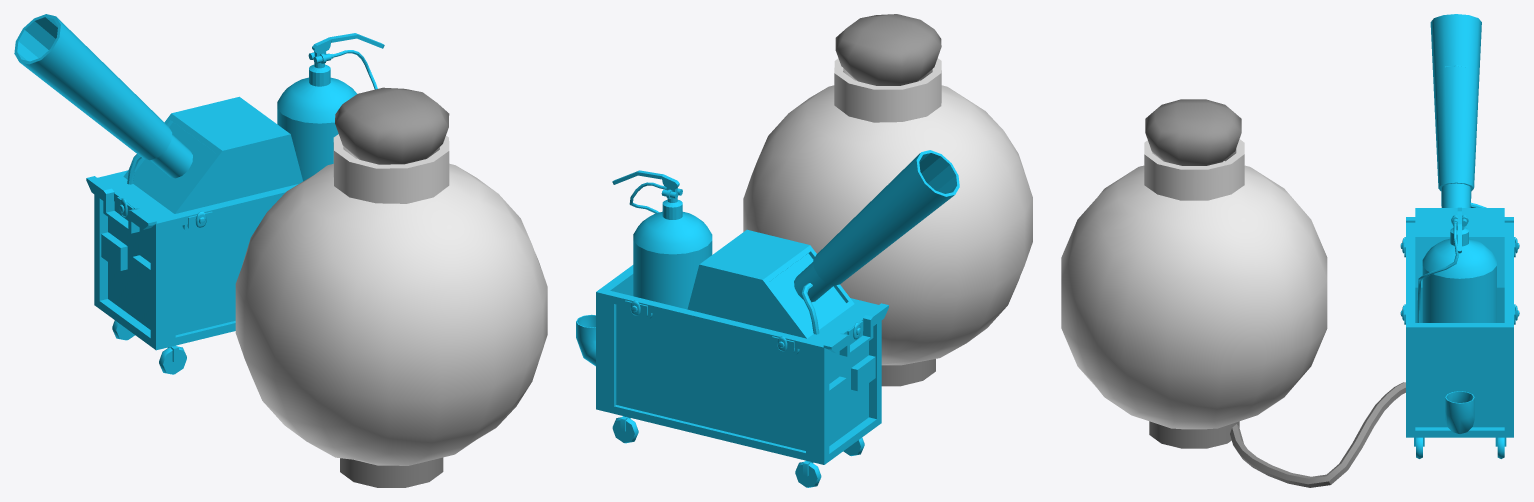
Rendered from FireCracker.fbx.
3 views of the same model, side by side, from view 1: azimuth 30°, elevation 25°; view 2: azimuth 150°, elevation 25°; view 3: azimuth 270°, elevation 25° (orthographic). The views are drawn at different scales.
Parts seen in each view (by area): view 1: Box143, Box001, Cylinder001, Box145, Cylinder006, Object038, Object006, Box014; view 2: Box143, Box001 (×2), Cylinder001, Cylinder006, Box145, Object006, Object038, Box015, Box014; view 3: Box143, Box001 (×2), Cylinder001, Cylinder006, Box145, Line011, Object038.
Boxes of the visible parts, x1,y1,x2,y2 form: Box143: (235, 134, 547, 465); Box001: (94, 96, 302, 350); Cylinder001: (14, 14, 192, 178); Box145: (335, 87, 449, 164); Cylinder006: (277, 62, 356, 181); Object038: (340, 457, 443, 487); Object006: (86, 176, 156, 233); Box014: (101, 232, 127, 270); Box143: (743, 58, 1032, 365); Box001 (×2): (576, 229, 881, 464); Cylinder001: (794, 150, 959, 302); Cylinder006: (633, 198, 712, 309); Box145: (835, 14, 941, 85); Object006: (823, 303, 888, 356); Object038: (881, 359, 935, 386); Box015: (851, 355, 875, 391); Box014: (829, 376, 846, 411); Box143: (1061, 139, 1327, 429); Box001 (×2): (1406, 208, 1513, 437); Cylinder001: (1430, 14, 1481, 207); Cylinder006: (1422, 226, 1496, 322); Box145: (1145, 99, 1241, 165); Line011: (1230, 382, 1405, 487); Object038: (1149, 421, 1239, 448).
Bounding box in the file's own units: 83.2 × 75.82 × 93.56.
